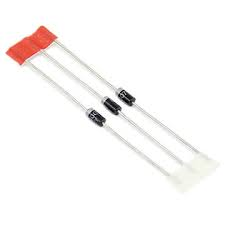diode: (70, 105, 114, 133)
